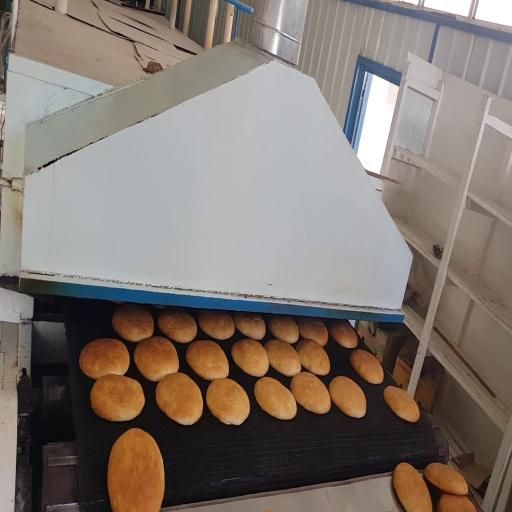bread: (108, 429, 164, 511), (91, 375, 145, 421), (156, 373, 203, 425), (206, 379, 250, 425), (134, 337, 179, 381), (80, 339, 129, 379), (393, 463, 432, 511), (254, 377, 296, 420), (186, 341, 228, 380), (291, 372, 330, 414), (112, 304, 154, 342), (329, 376, 366, 418), (424, 463, 467, 495), (231, 339, 268, 376), (264, 340, 301, 376), (158, 309, 197, 343), (384, 386, 419, 422), (297, 339, 330, 375), (350, 350, 383, 384), (198, 310, 234, 340), (297, 317, 328, 346), (267, 315, 298, 344), (233, 312, 265, 340), (329, 320, 357, 348), (438, 494, 476, 511), (154, 305, 166, 309)
